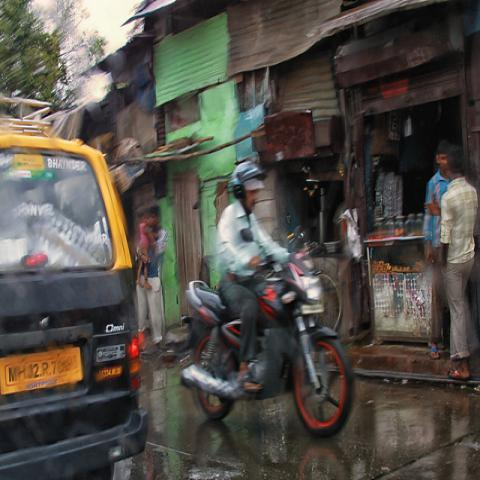car: (1, 139, 151, 477)
motorcycle: (178, 245, 355, 438)
truck: (0, 98, 152, 476)
